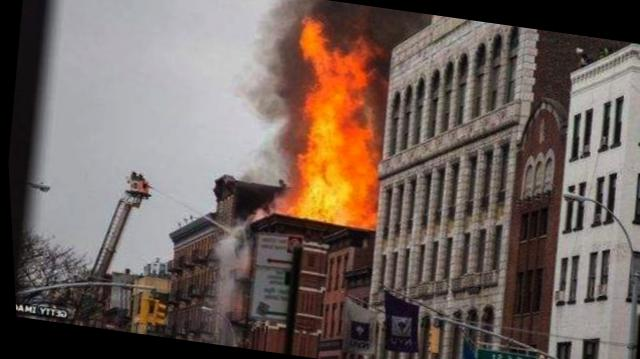fire: (253, 9, 404, 227)
